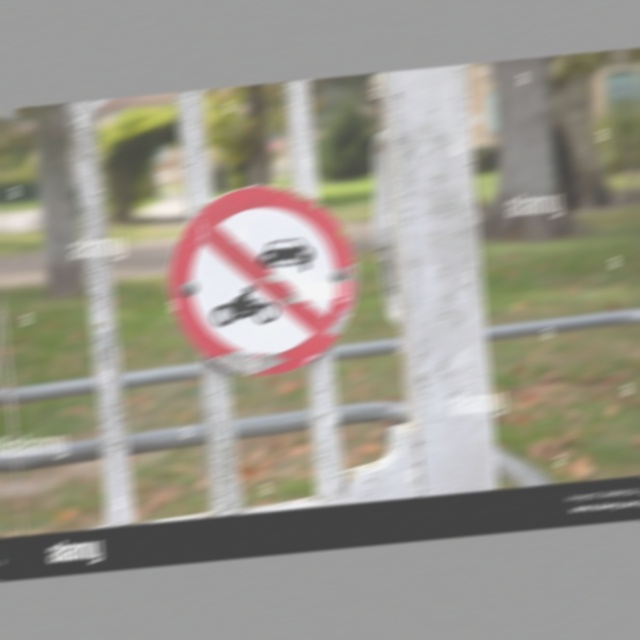All_Motor_Vehicles_Prohibited: (158, 180, 361, 386)
